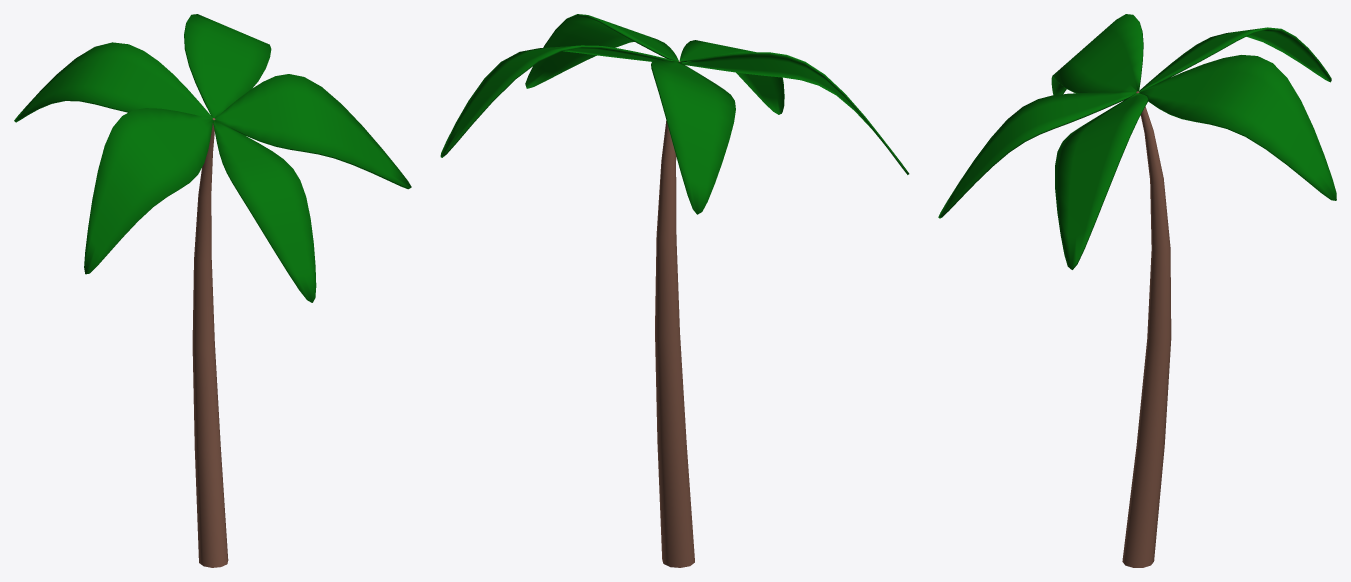
File: Palmtree 1 1.fbx
The picture shows the model from 3 angles, left to right: view 1: azimuth 30°, elevation 25°; view 2: azimuth 150°, elevation 25°; view 3: azimuth 270°, elevation 25°; orthographic projection. The views are drawn at different scales.
Visible parts, largest first — view 1: Cylinder.001, Cylinder; view 2: Cylinder.001, Cylinder; view 3: Cylinder.001, Cylinder.
Boxes of the visible parts, x1,y1,x2,y2 form: Cylinder.001: (14,14,411,302); Cylinder: (192,118,228,567); Cylinder.001: (440,14,909,214); Cylinder: (655,61,694,567); Cylinder.001: (938,14,1336,269); Cylinder: (1122,91,1171,567).
Bounding box in the file's own units: 1971 × 2777 × 1926.
